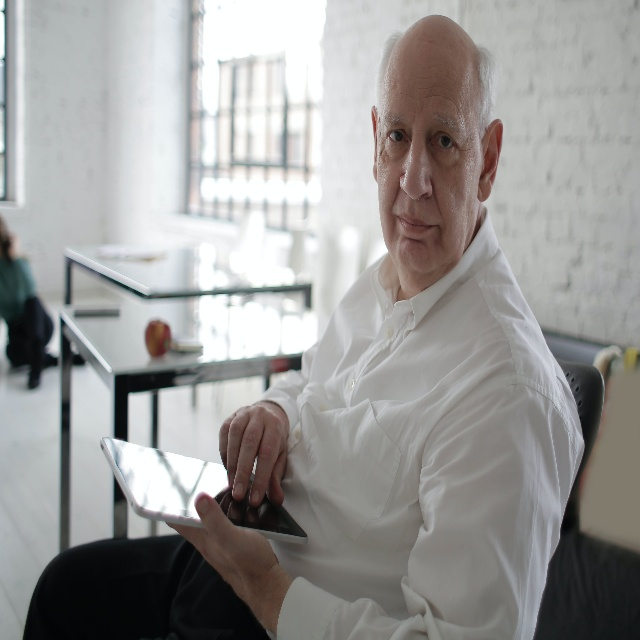Sin_guantes: (166, 492, 279, 614), (218, 398, 288, 508)
